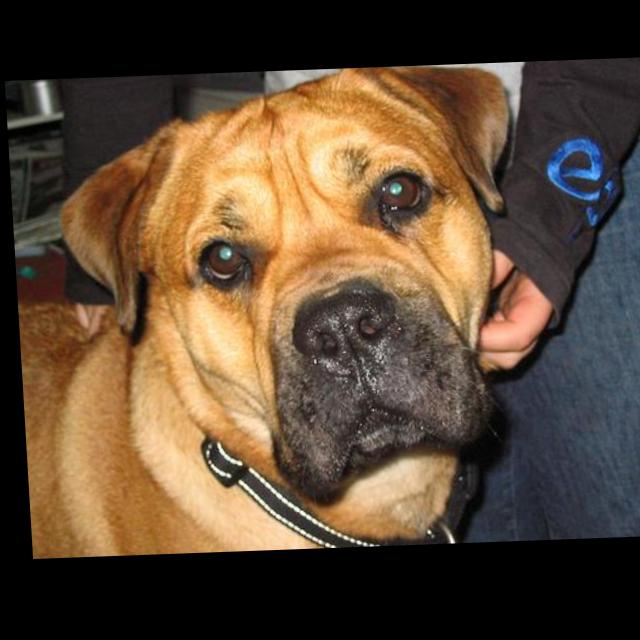bullmastiff: (5, 67, 531, 560)
